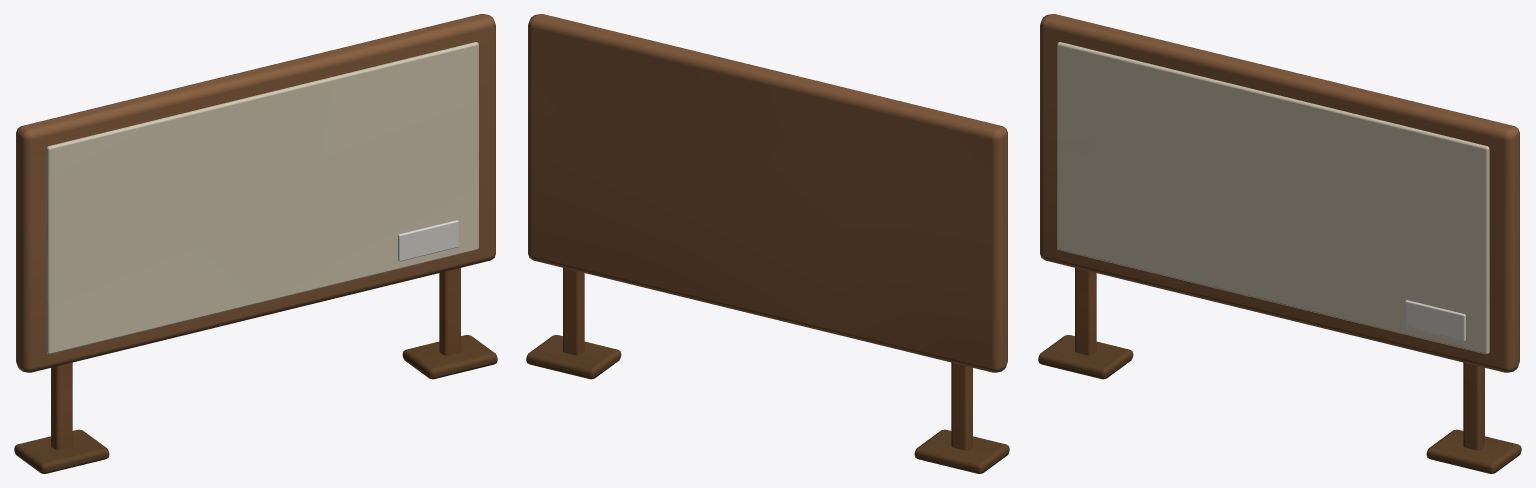
The model's file is furn_shop_board.glb.
3 views of the same model, side by side, from view 1: azimuth 30°, elevation 25°; view 2: azimuth 150°, elevation 25°; view 3: azimuth 330°, elevation 25° (orthographic).
Visible parts, largest first — view 1: furn_shop_board_main; view 2: furn_shop_board_main; view 3: furn_shop_board_main.
Part boxes in pixels (x1,y1,x2,y2): furn_shop_board_main: (14, 14, 497, 473); furn_shop_board_main: (526, 14, 1009, 473); furn_shop_board_main: (1038, 14, 1521, 473).
Bounding box in the file's own units: 2.2 × 1.5 × 0.24.
